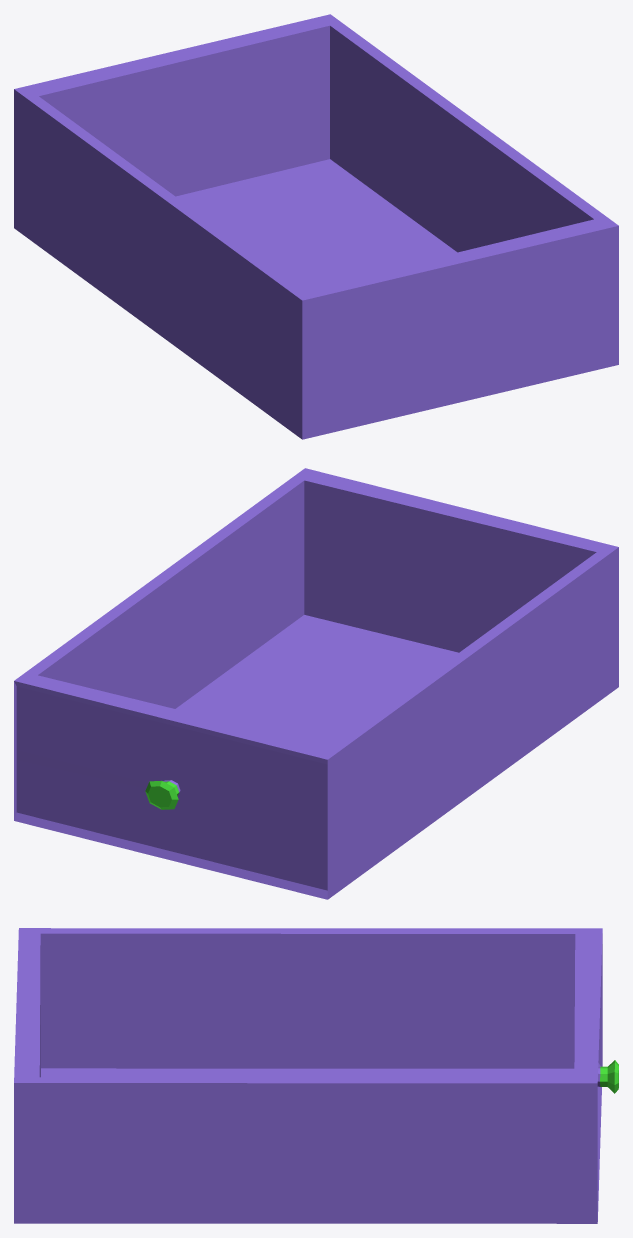
Rendered from GGJ-Teacher-Desk-Drawer-small-top.fbx.
3 views of the same model, one above another, from view 1: azimuth 30°, elevation 25°; view 2: azimuth 150°, elevation 25°; view 3: azimuth 270°, elevation 25° (orthographic).
Parts seen in each view (by area): view 1: Teacher-Desk-Drawer-small-top; view 2: Teacher-Desk-Drawer-small-top; view 3: Teacher-Desk-Drawer-small-top.
Boxes of the visible parts, <box> form: Teacher-Desk-Drawer-small-top: <box>14,14,618,439</box>; Teacher-Desk-Drawer-small-top: <box>14,468,618,899</box>; Teacher-Desk-Drawer-small-top: <box>14,928,618,1223</box>.
Size of the model in its own units: 108 by 179 by 45.78.
